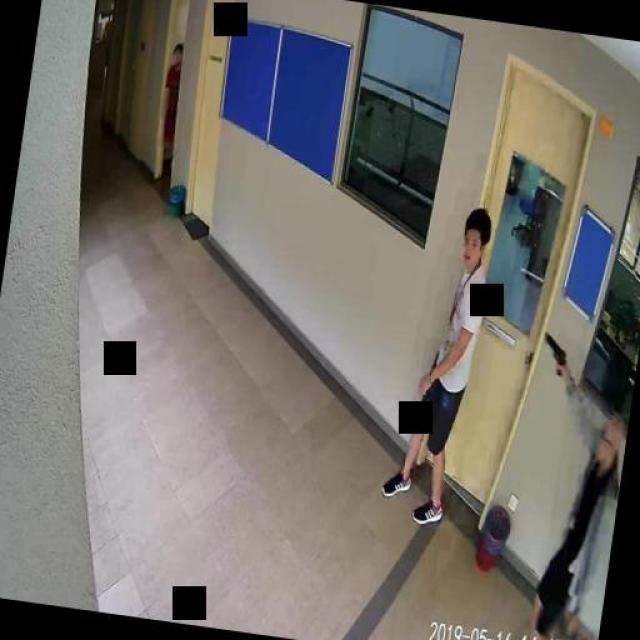gun: (539, 332, 570, 376)
